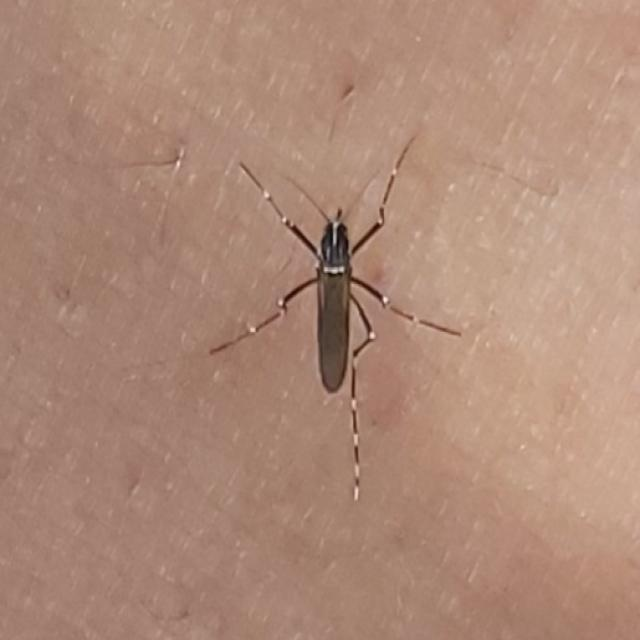albopictus: (206, 126, 465, 498)
